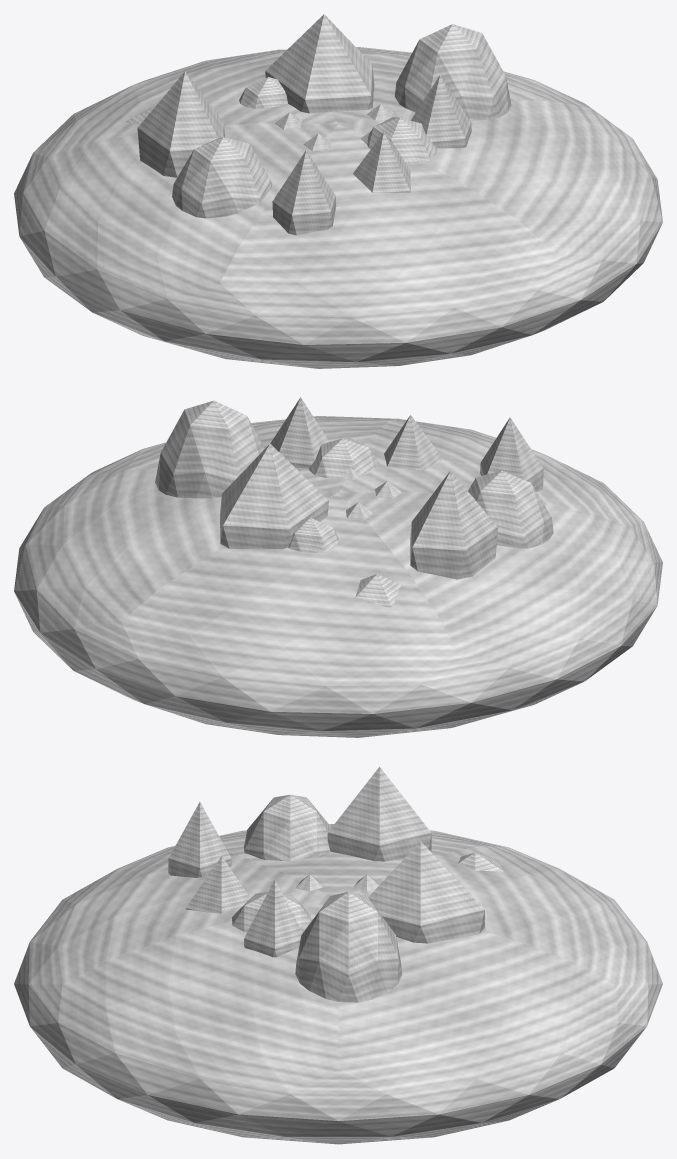
The model's file is sulfur_node_variant_b.glb.
3 views of the same model, one above another, from view 1: azimuth 30°, elevation 25°; view 2: azimuth 150°, elevation 25°; view 3: azimuth 270°, elevation 25° (orthographic).
Parts seen in each view (by area): view 1: Resource node bedrock.001, Exposed ore formation.010, Exposed ore formation.012, Exposed ore formation.016, Exposed ore formation.015, Exposed ore formation.017, Exposed ore formation.020, Exposed ore formation.018, Exposed ore formation.019, Exposed ore formation.013; view 2: Resource node bedrock.001, Exposed ore formation.012, Exposed ore formation.010, Exposed ore formation.015, Exposed ore formation.016, Exposed ore formation.017, Exposed ore formation.020, Exposed ore formation.019, Exposed ore formation.018, Exposed ore formation.013, Exposed ore formation.014; view 3: Resource node bedrock.001, Exposed ore formation.010, Exposed ore formation.012, Exposed ore formation.015, Exposed ore formation.016, Exposed ore formation.017, Exposed ore formation.020, Exposed ore formation.018, Exposed ore formation.019, Exposed ore formation.014.
Part boxes in pixels (<box>): Resource node bedrock.001: <box>14,47,662,368</box>; Exposed ore formation.010: <box>394,24,511,121</box>; Exposed ore formation.012: <box>265,14,374,113</box>; Exposed ore formation.016: <box>172,137,271,218</box>; Exposed ore formation.015: <box>137,71,224,177</box>; Exposed ore formation.017: <box>272,150,336,235</box>; Exposed ore formation.020: <box>411,75,471,148</box>; Exposed ore formation.018: <box>353,132,410,192</box>; Exposed ore formation.019: <box>367,117,437,163</box>; Exposed ore formation.013: <box>239,77,287,108</box>; Resource node bedrock.001: <box>14,416,662,737</box>; Exposed ore formation.012: <box>220,444,328,549</box>; Exposed ore formation.010: <box>155,400,264,498</box>; Exposed ore formation.015: <box>410,470,497,579</box>; Exposed ore formation.016: <box>468,470,553,548</box>; Exposed ore formation.017: <box>480,417,543,491</box>; Exposed ore formation.020: <box>270,397,329,468</box>; Exposed ore formation.019: <box>308,437,378,478</box>; Exposed ore formation.018: <box>384,415,443,471</box>; Exposed ore formation.013: <box>288,517,338,552</box>; Exposed ore formation.014: <box>355,573,400,608</box>; Resource node bedrock.001: <box>14,824,662,1144</box>; Exposed ore formation.010: <box>295,891,402,1002</box>; Exposed ore formation.012: <box>368,841,484,943</box>; Exposed ore formation.015: <box>327,766,431,861</box>; Exposed ore formation.016: <box>244,794,331,861</box>; Exposed ore formation.017: <box>168,802,231,877</box>; Exposed ore formation.020: <box>244,879,302,957</box>; Exposed ore formation.018: <box>186,856,250,913</box>; Exposed ore formation.019: <box>231,891,310,932</box>; Exposed ore formation.014: <box>458,852,503,871</box>.
Size of what is drawn, in the model's own units: 6 by 2.44 by 6.
Materials: 2 (2 with a texture image).
